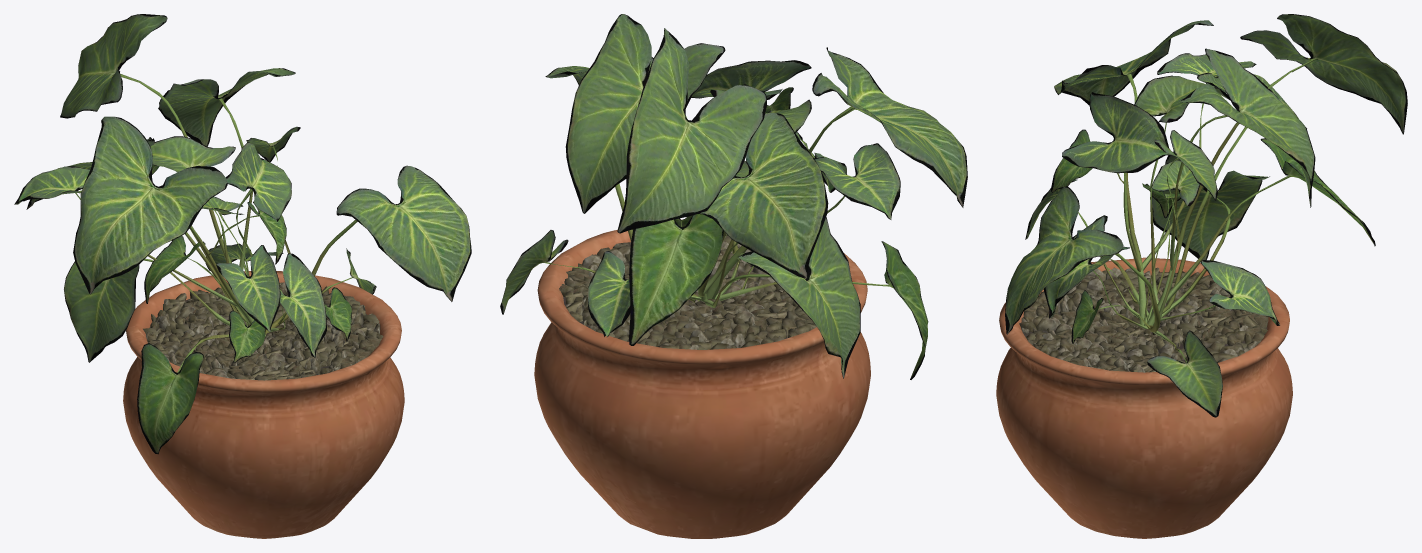
Rendered from plant-leafy.glb.
The picture shows the model from 3 angles, left to right: view 1: azimuth 30°, elevation 25°; view 2: azimuth 150°, elevation 25°; view 3: azimuth 270°, elevation 25°; orthographic projection. The views are drawn at different scales.
Visible parts, largest first — view 1: potted_plant_02_leaves, potted_plant_02_pot; view 2: potted_plant_02_leaves, potted_plant_02_pot; view 3: potted_plant_02_pot, potted_plant_02_leaves.
Part boxes in pixels (x1,y1,x2,y2): potted_plant_02_leaves: (14, 14, 471, 454); potted_plant_02_pot: (123, 271, 404, 538); potted_plant_02_leaves: (500, 14, 967, 379); potted_plant_02_pot: (534, 219, 870, 538); potted_plant_02_pot: (996, 257, 1292, 538); potted_plant_02_leaves: (1005, 14, 1407, 417).
Size of the model in its own units: 0.6998 by 0.84 by 0.66.
2 materials, 2 textured.
